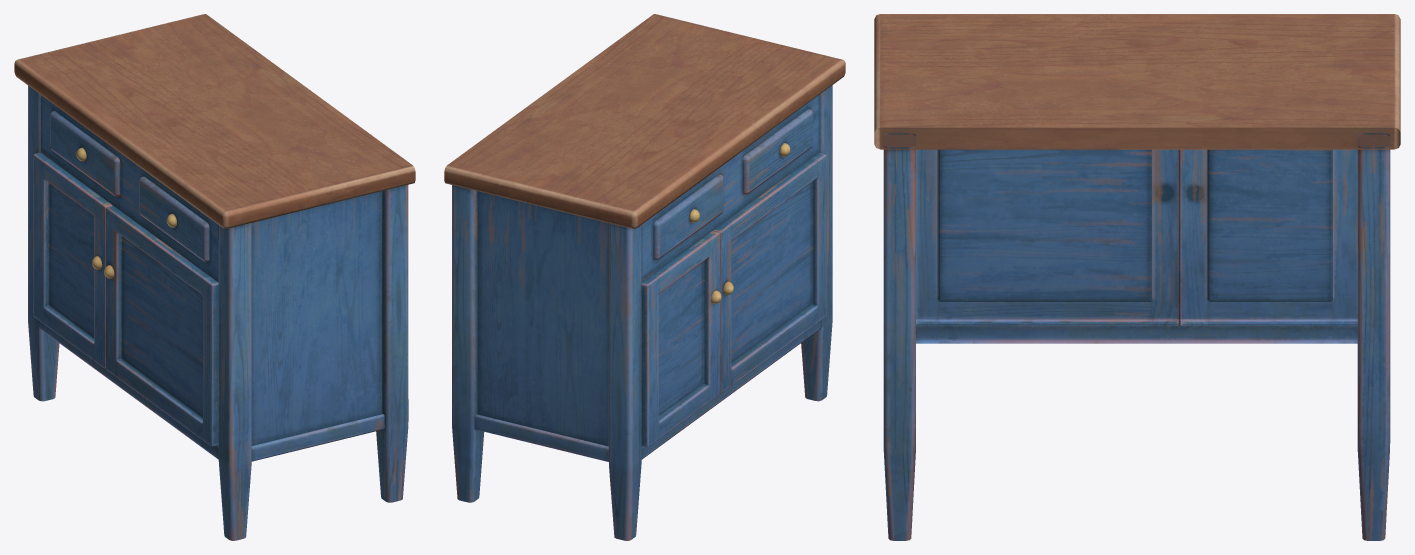
Rendered from SM_Cabinet_01.fbx.
3 renders of one model, left to right at view 1: azimuth 30°, elevation 25°; view 2: azimuth 150°, elevation 25°; view 3: azimuth 270°, elevation 25°, orthographic. The views are drawn at different scales.
Parts seen in each view (by area): view 1: SM_Cabinet_01_LOD0; view 2: SM_Cabinet_01_LOD0; view 3: SM_Cabinet_01_LOD0.
Part boxes in pixels (x1=…): SM_Cabinet_01_LOD0: x1=14, y1=14, x2=415, y2=540; SM_Cabinet_01_LOD0: x1=444, y1=14, x2=845, y2=540; SM_Cabinet_01_LOD0: x1=874, y1=14, x2=1400, y2=540.
Bounding box in the file's own units: 63.91 × 121 × 106.
Materials: 1 (1 with a texture image).
